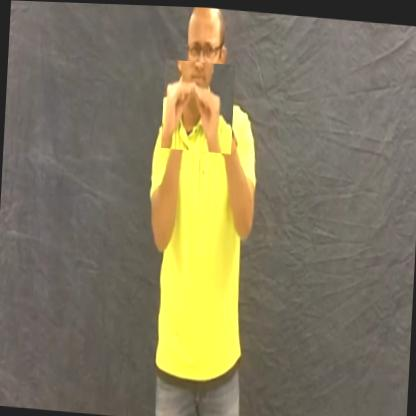Fix: (160, 58, 235, 152)
